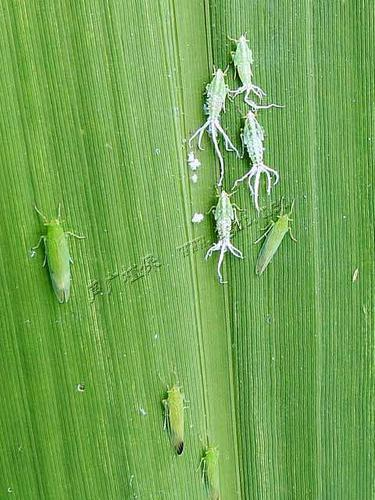Delphacidae: (187, 65, 241, 186), (29, 202, 86, 304), (230, 111, 281, 212), (224, 32, 285, 110), (203, 184, 245, 286), (253, 194, 298, 280), (156, 371, 191, 457), (194, 433, 220, 499)
